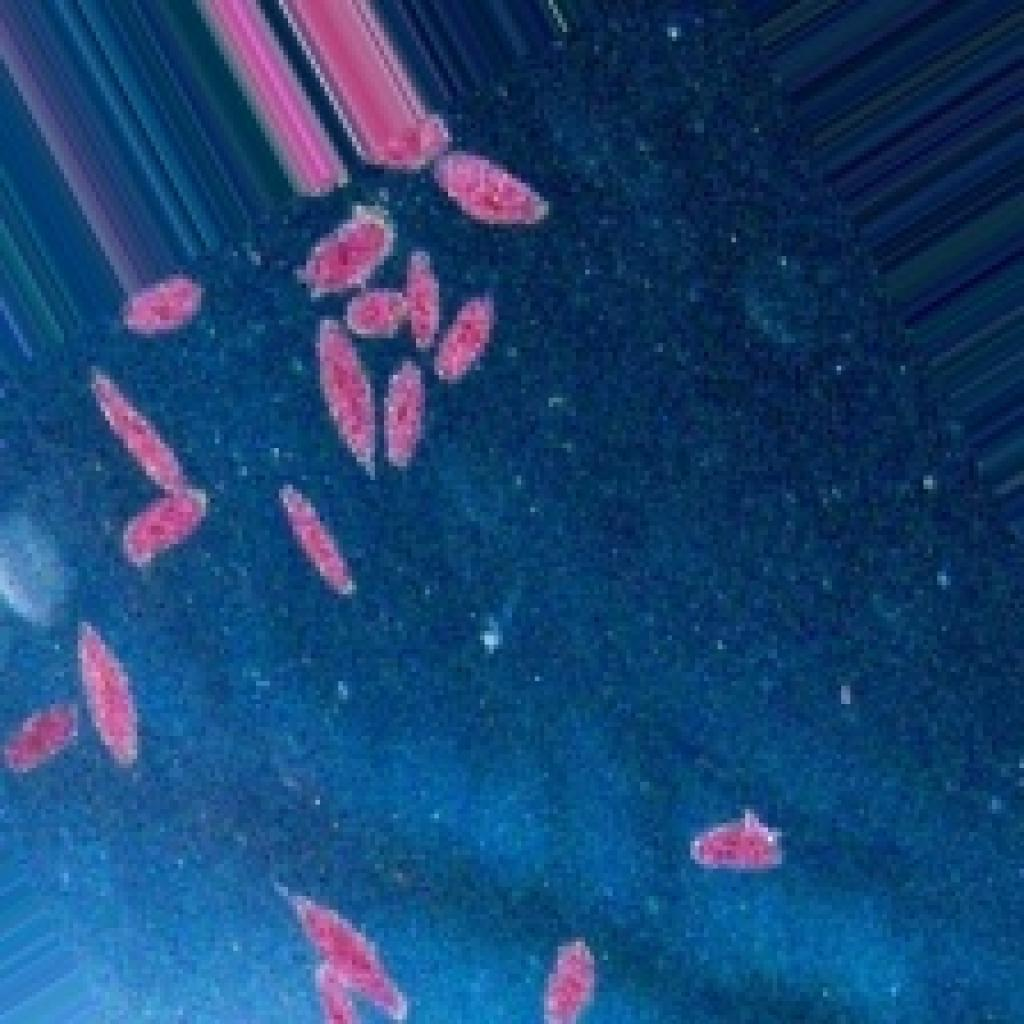Amoeba: (1, 16, 1022, 1024)
